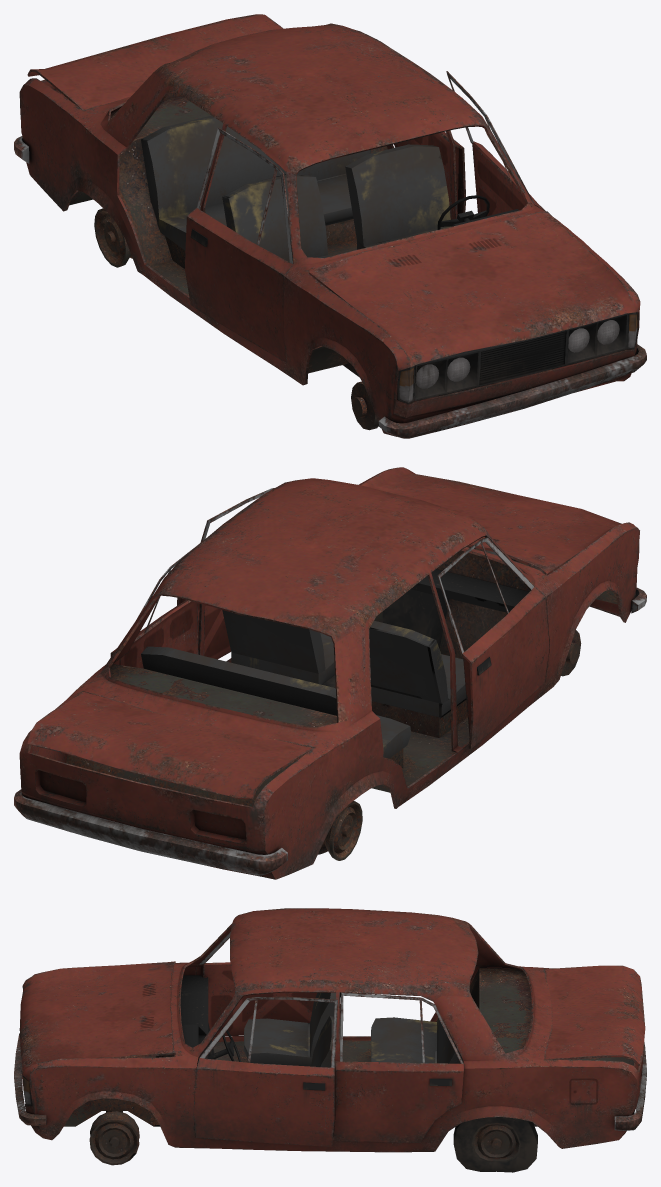
Rendered from fiat125p_artstation.dae.
3 renders of one model, top to bottom at view 1: azimuth 30°, elevation 25°; view 2: azimuth 150°, elevation 25°; view 3: azimuth 270°, elevation 25°, orthographic. The views are drawn at different scales.
Visible parts, largest first — view 1: body, floor; view 2: body, floor; view 3: body, floor.
Part boxes in pixels (box(x1,y1,x2,y2)): body: box(14, 14, 646, 438); floor: box(69, 92, 627, 430); body: box(14, 467, 646, 879); floor: box(66, 546, 617, 860); body: box(14, 908, 646, 1152); floor: box(64, 967, 634, 1172).
Size of the model in its own units: 78.95 by 180 by 58.53.
Materials: 2 (2 with a texture image).
